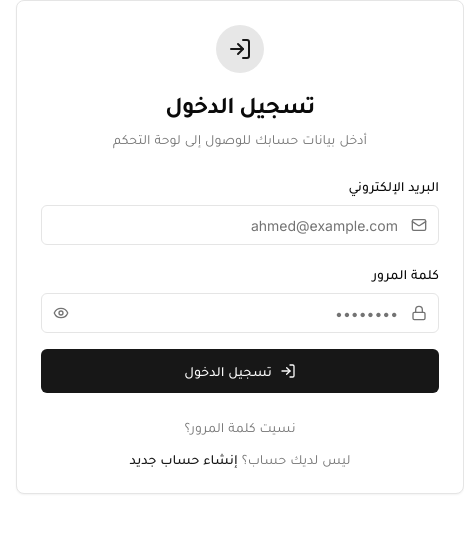
LoginPage › يعرض خطأ عندما يكون البريد الإلكتروني فارغًا
The width and height of the screenshot is (464, 559).
What coordinates should you click on to do the following:
click the button "تسجيل الدخول"
I would click on:
 (240, 371)
Its box is [41,349,439,393].
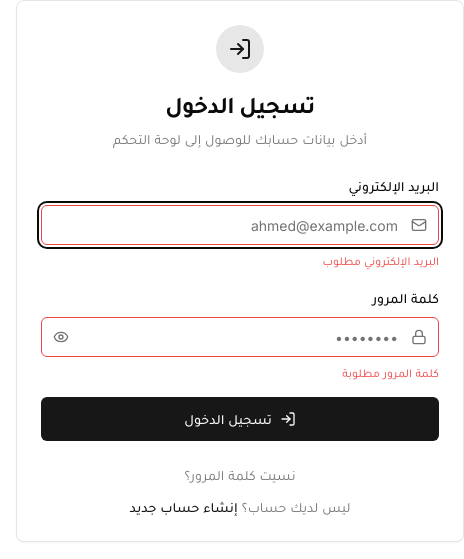
Expected: the text "البريد الإلكتروني مطلوب" is shown, [322,253,439,268]
